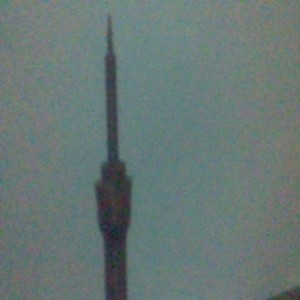solder: (92, 15, 132, 300)
